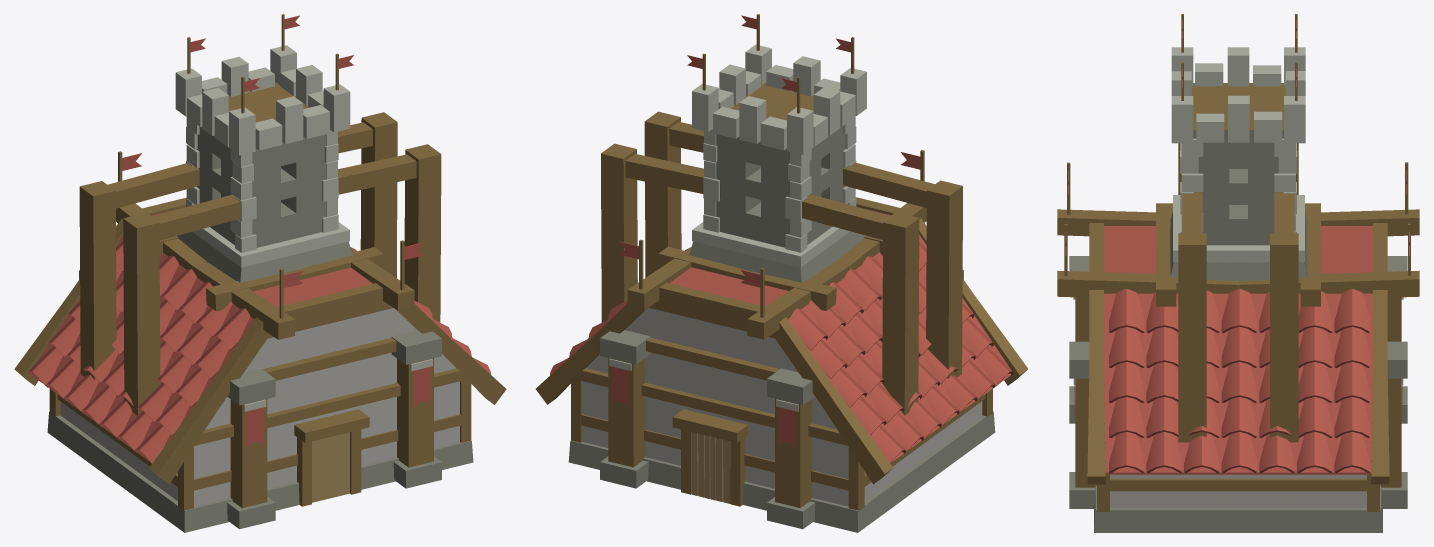
Rendered from tower-house.glb.
3 renders of one model, left to right at view 1: azimuth 30°, elevation 25°; view 2: azimuth 150°, elevation 25°; view 3: azimuth 270°, elevation 25°, orthographic. The views are drawn at different scales.
Visible parts, largest first — view 1: TowerHouse_SecondAge; view 2: TowerHouse_SecondAge; view 3: TowerHouse_SecondAge.
Part boxes in pixels (x1=…): TowerHouse_SecondAge: x1=14, y1=14, x2=506, y2=532; TowerHouse_SecondAge: x1=536, y1=14, x2=1027, y2=532; TowerHouse_SecondAge: x1=1057, y1=14, x2=1419, y2=532.
Size of the model in its own units: 1.37 by 1.5 by 1.17.
1 material, 1 textured.
